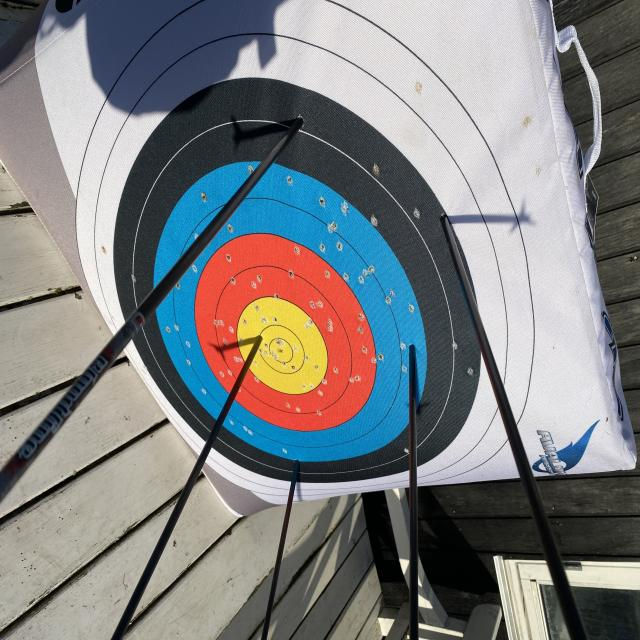Arrow_Black: (270, 87, 316, 152), (432, 188, 458, 242), (288, 451, 310, 492)
Arrow_Blue: (399, 330, 429, 374)
Arrow_Yellow: (244, 330, 276, 370)
